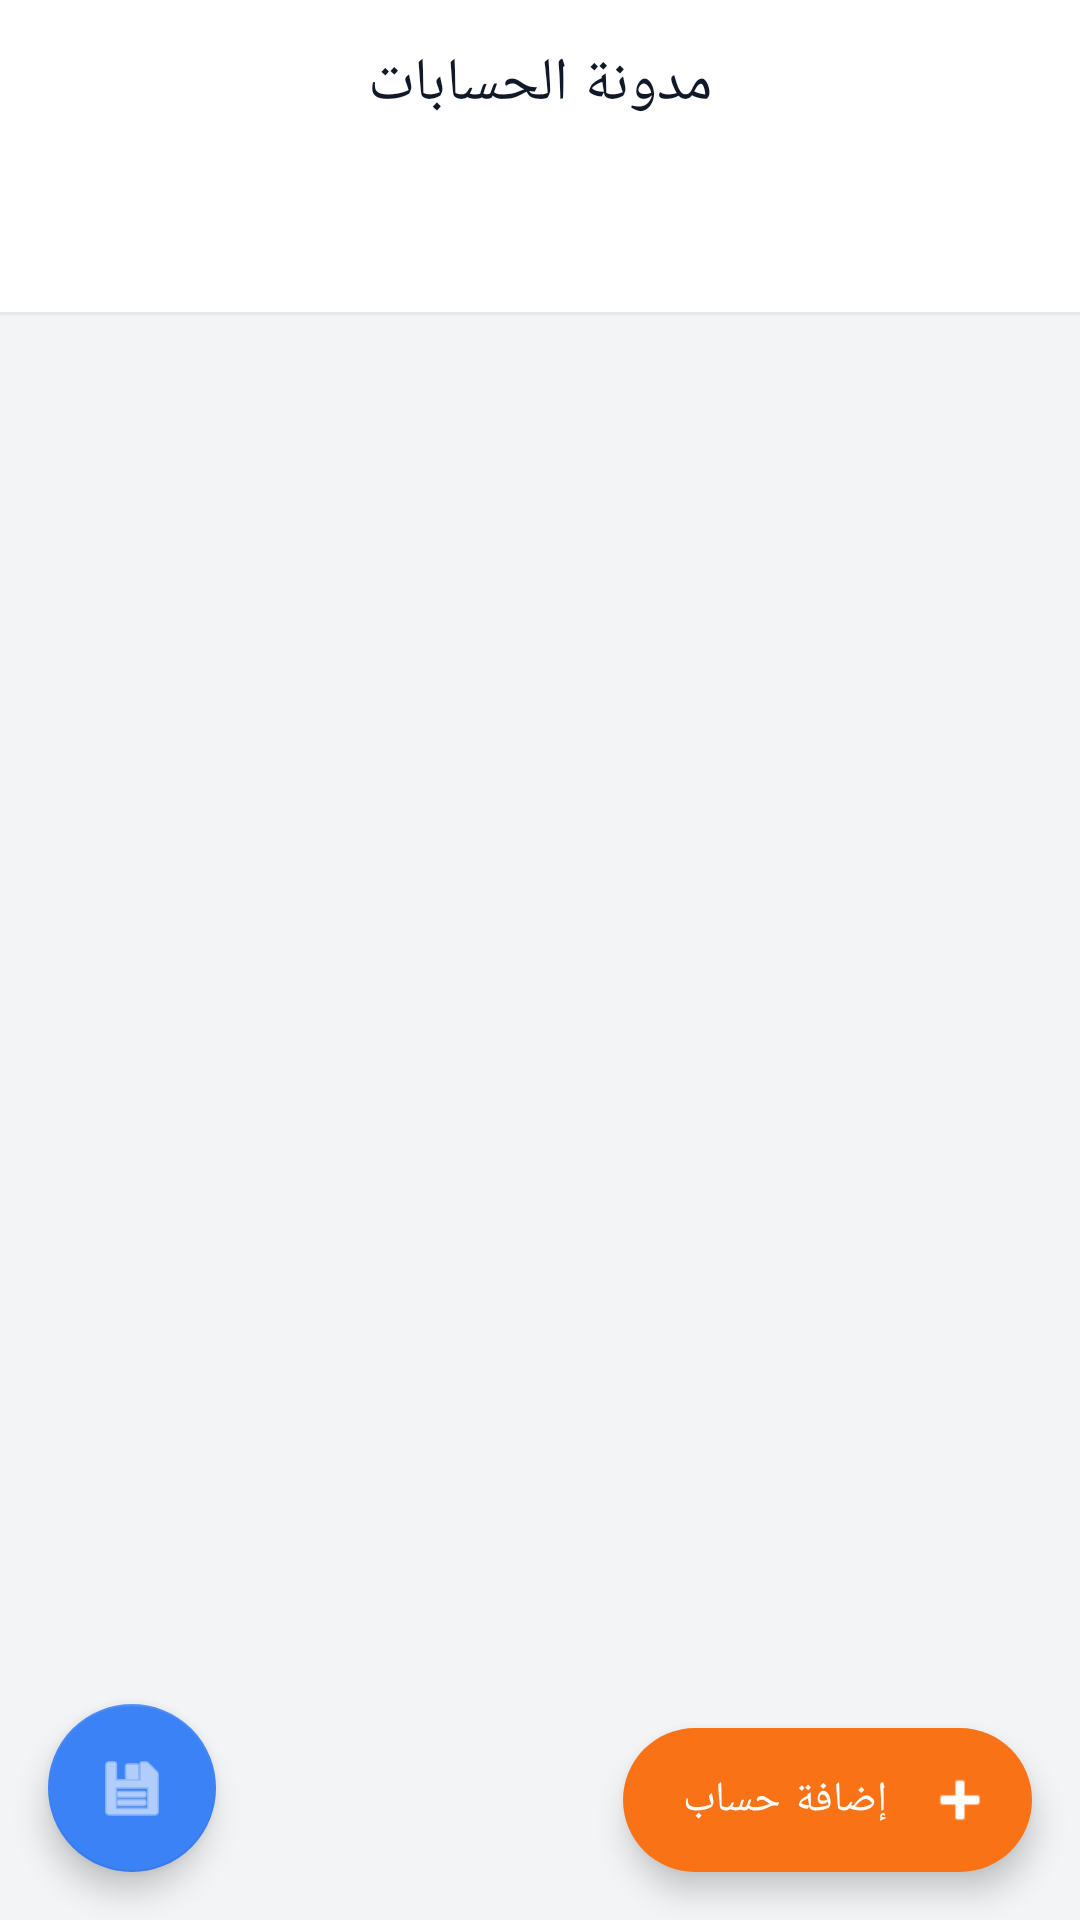

Named icons in this screenshot (1080x1920) and their bounding boxes, (x1, y1, x2, y2):
save: (48, 1704, 216, 1872)
